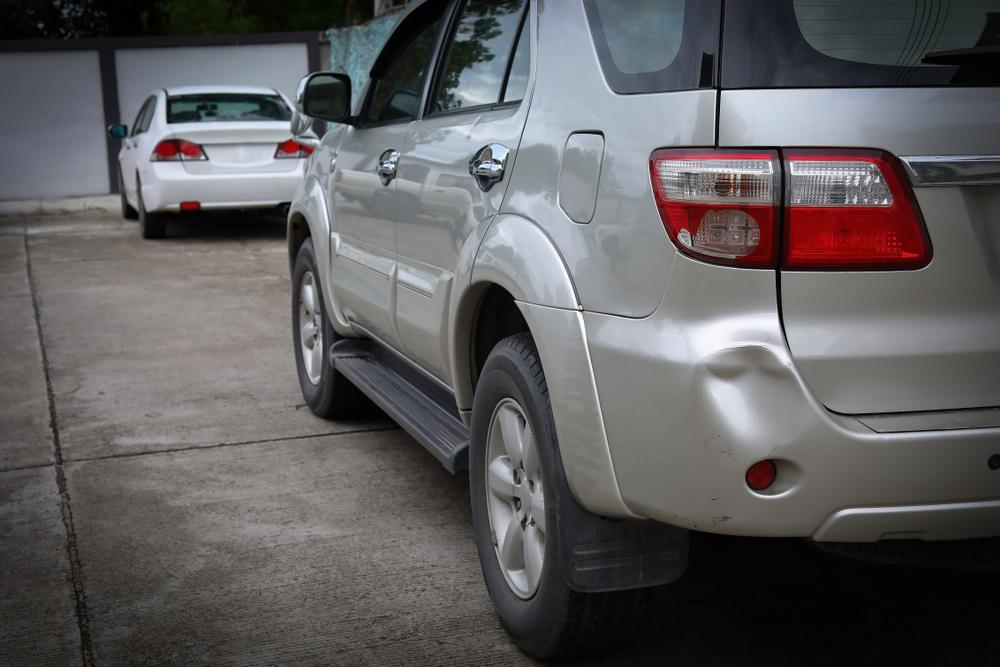dent: (704, 346, 809, 450)
lamp broken: (649, 147, 784, 267)
